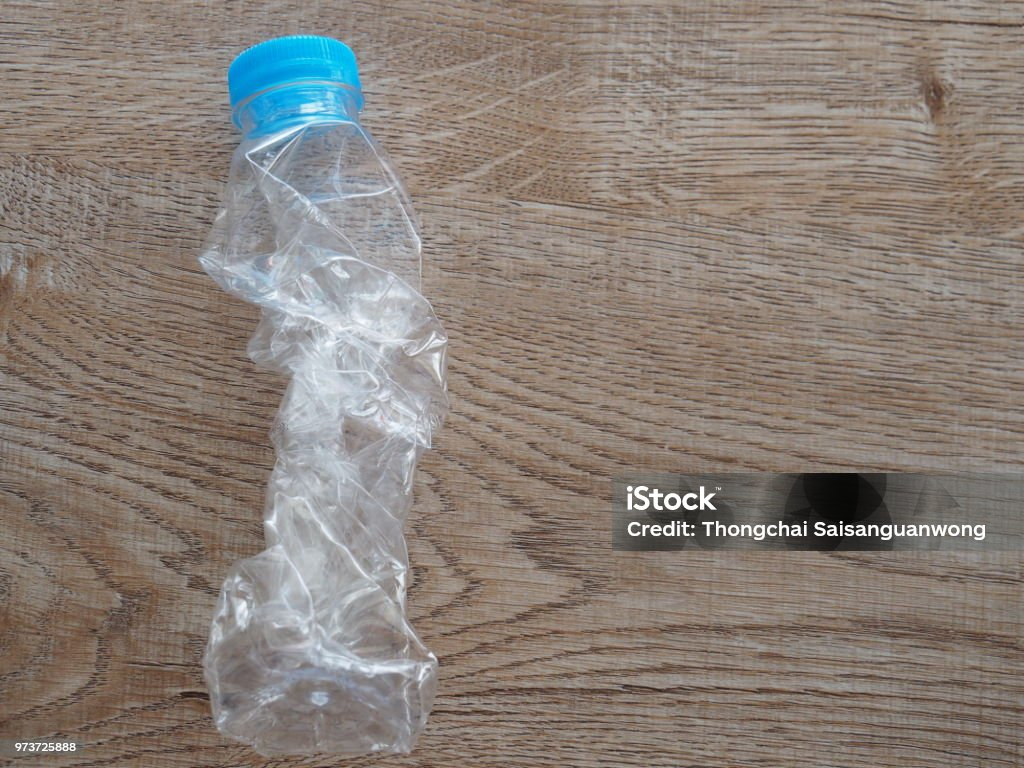plasticbottle: (190, 18, 456, 761)
